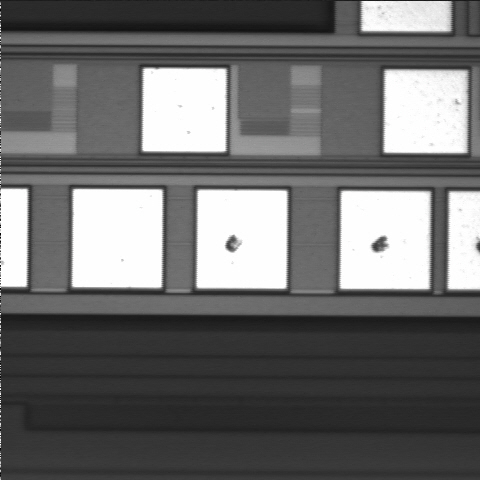pad: (72, 189, 162, 288), (197, 190, 287, 289), (340, 191, 430, 289), (143, 68, 226, 152), (384, 70, 467, 153)
